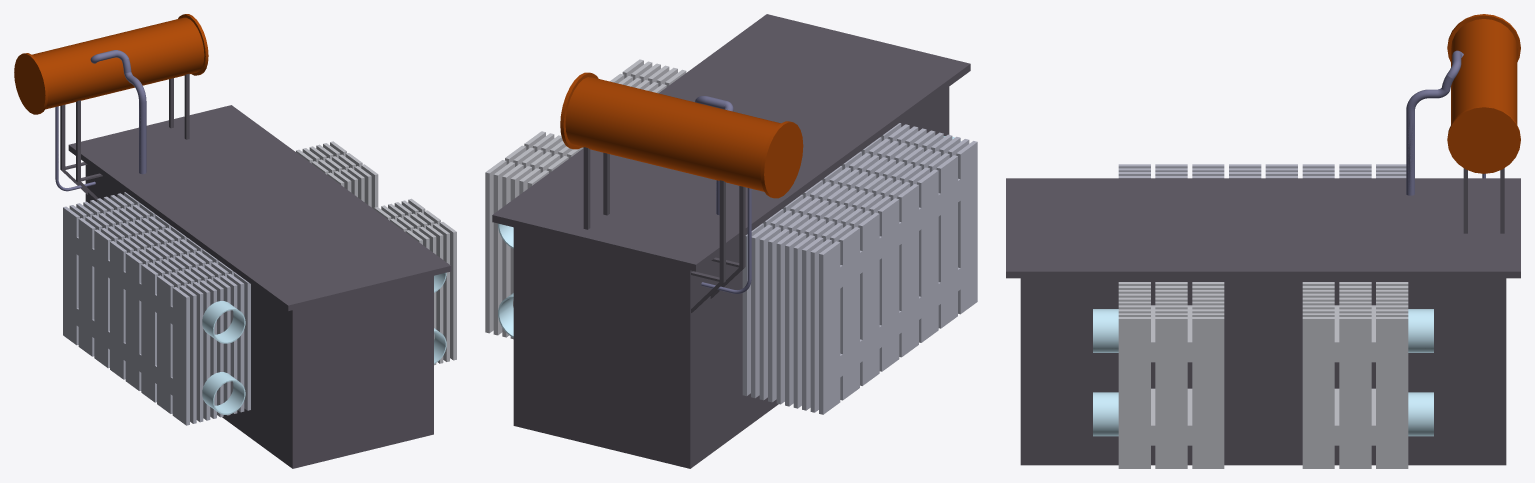
The model's file is powertransformer.obj.
3 renders of one model, left to right at view 1: azimuth 30°, elevation 25°; view 2: azimuth 150°, elevation 25°; view 3: azimuth 270°, elevation 25°, orthographic. The views are drawn at different scales.
Parts seen in each view (by area): view 1: group_1.001_ID33, group_1_ID25, group_0_ID4, group_12_ID704, group_13_ID763, group_9_ID523, group_14_ID822, group_10_ID586, group_15_ID881, group_11_ID645, group_16.006_ID976, group_0.001_ID12 (+21 smaller); view 2: group_1_ID25, group_1.001_ID33, group_11_ID645, group_0_ID4, group_9_ID523, group_13_ID763, group_10_ID586, group_15_ID881, group_14_ID822, group_12_ID704, group_8_ID456, group_16.006_ID976 (+9 smaller); view 3: group_1.001_ID33, group_1_ID25, group_8_ID456, group_6_ID322, group_3_ID41, group_7_ID389, group_0_ID4, group_5.008_ID265, group_4.008_ID160, group_0.002_ID18, SketchUp.002_ID1014, SketchUp.012_ID1080 (+4 smaller).
Boxes of the visible parts, x1=… form: group_1.001_ID33: x1=68, y1=105, x2=451, y2=311; group_1_ID25: x1=85, y1=164, x2=433, y2=468; group_0_ID4: x1=32, y1=17, x2=204, y2=109; group_12_ID704: x1=78, y1=203, x2=155, y2=356; group_13_ID763: x1=125, y1=238, x2=203, y2=390; group_9_ID523: x1=110, y1=226, x2=187, y2=379; group_14_ID822: x1=141, y1=249, x2=218, y2=402; group_10_ID586: x1=94, y1=215, x2=171, y2=368; group_15_ID881: x1=157, y1=261, x2=234, y2=413; group_11_ID645: x1=63, y1=192, x2=140, y2=345; group_16.006_ID976: x1=172, y1=287, x2=189, y2=425; group_0.001_ID12: x1=14, y1=53, x2=48, y2=114; group_1_ID25: x1=513, y1=87, x2=949, y2=468; group_1.001_ID33: x1=492, y1=14, x2=970, y2=271; group_11_ID645: x1=742, y1=223, x2=842, y2=414; group_0_ID4: x1=565, y1=77, x2=780, y2=191; group_9_ID523: x1=802, y1=180, x2=901, y2=371; group_13_ID763: x1=821, y1=166, x2=921, y2=357; group_10_ID586: x1=782, y1=194, x2=881, y2=385; group_15_ID881: x1=861, y1=137, x2=960, y2=328; group_14_ID822: x1=841, y1=151, x2=940, y2=342; group_12_ID704: x1=763, y1=209, x2=862, y2=400; group_8_ID456: x1=485, y1=160, x2=548, y2=339; group_16.006_ID976: x1=956, y1=141, x2=977, y2=314; group_1.001_ID33: x1=1006, y1=178, x2=1520, y2=278; group_1_ID25: x1=1020, y1=278, x2=1506, y2=465; group_8_ID456: x1=1371, y1=282, x2=1408, y2=468; group_6_ID322: x1=1334, y1=282, x2=1371, y2=468; group_3_ID41: x1=1187, y1=282, x2=1224, y2=468; group_7_ID389: x1=1151, y1=282, x2=1187, y2=468; group_0_ID4: x1=1451, y1=19, x2=1517, y2=124; group_5.008_ID265: x1=1302, y1=317, x2=1334, y2=468; group_4.008_ID160: x1=1118, y1=317, x2=1150, y2=468; group_0.002_ID18: x1=1447, y1=105, x2=1520, y2=173; SketchUp.002_ID1014: x1=1406, y1=50, x2=1463, y2=195; SketchUp.012_ID1080: x1=1408, y1=392, x2=1433, y2=436.
Size of the model in its own units: 4.99 by 5 by 7.
